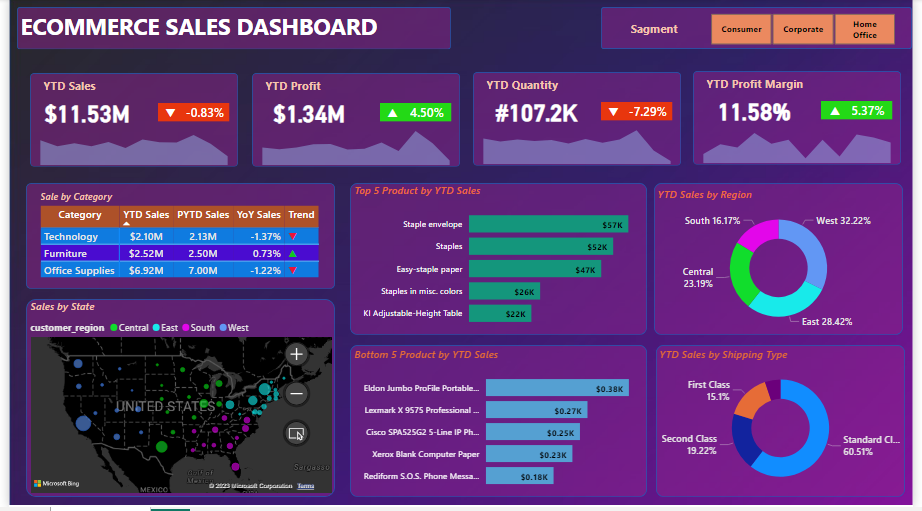

The dashboard page shown, as its layout file describes it:
{"tool":"powerbi","page":{"name":"Dashboard","canvas":[1280,720],"ordinal":0},"visuals":[{"type":"shape","box":[11.3,11.3,615,60],"z":0},{"type":"textbox","box":[11.3,11.3,535.7,62.4],"z":1000},{"type":"shape","box":[29.8,104.9,295,133],"z":2000},{"type":"card","fields":{"Values":["ecommerce_data.YTD Sales"]},"box":[43.9,137.5,133.2,45.4],"z":3000},{"type":"areaChart","fields":{"Category":["Calendar.Month"],"Y":["Sum(ecommerce_data.sales_per_order)"]},"box":[29.8,171.5,294.8,69.4],"z":4000},{"type":"shape","box":[211.2,147.4,100.6,25.5],"z":5000},{"type":"card","fields":{"Values":["ecommerce_data.YoY Sales"]},"box":[243.8,147.4,68,31.2],"z":6000},{"type":"card","fields":{"Values":["ecommerce_data.Sales Icon"]},"box":[211.2,147.4,35.4,25.5],"z":7000},{"type":"textbox","box":[43.9,106.3,99.2,31.2],"z":8000},{"type":"shape","box":[344.5,105,295,133],"z":9000},{"type":"card","fields":{"Values":["ecommerce_data.YTD Profit"]},"box":[358.7,137.6,133.2,45.4],"z":10000},{"type":"areaChart","fields":{"Category":["Calendar.Month"],"Y":["Sum(ecommerce_data.profit_per_order)"]},"box":[344.5,171.6,294.8,69.4],"z":11000},{"type":"shape","box":[525.9,147.5,100.6,25.5],"z":12000},{"type":"card","fields":{"Values":["ecommerce_data.YoY Profit"]},"box":[558.5,147.5,68,31.2],"z":13000},{"type":"card","fields":{"Values":["ecommerce_data.Profit Icon"]},"box":[525.8,147.4,35.4,25.5],"z":14000},{"type":"textbox","box":[358.6,106.3,100.6,31.2],"z":15000},{"type":"shape","box":[657.8,103.6,295,133],"z":16000},{"type":"card","fields":{"Values":["ecommerce_data.YTD Concanated Quantity"]},"box":[671.8,136.1,151.7,45.4],"z":17000},{"type":"areaChart","fields":{"Category":["Calendar.Month"],"Y":["Sum(ecommerce_data.order_quantity)"]},"box":[657.8,170.2,294.8,69.4],"z":18000},{"type":"shape","box":[839.2,146.1,100.6,25.5],"z":19000},{"type":"card","fields":{"Values":["ecommerce_data.YoY Qty"]},"box":[871.8,146.1,68,31.2],"z":20000},{"type":"card","fields":{"Values":["ecommerce_data.Qty Icon"]},"box":[839.1,146,35.4,25.5],"z":21000},{"type":"textbox","box":[671.8,104.9,133.2,31.2],"z":22000},{"type":"shape","box":[969.7,102.3,295,133],"z":23000},{"type":"card","fields":{"Values":["ecommerce_data.YTD Profit Margin"]},"box":[983.7,134.7,144.6,45.4],"z":24000},{"type":"areaChart","fields":{"Category":["Calendar.Month"],"Y":["ecommerce_data.Profit Margin"]},"box":[969.7,168.9,294.8,69.4],"z":25000},{"type":"shape","box":[1151.1,144.8,100.6,25.5],"z":26000},{"type":"card","fields":{"Values":["ecommerce_data.YoY Profit Marging"]},"box":[1183.7,144.8,68,31.2],"z":27000},{"type":"textbox","box":[983.6,103.5,167.2,31.2],"z":28000},{"type":"card","fields":{"Values":["ecommerce_data.Profit Margin Icon"]},"box":[1158,144.6,25.5,25.5],"z":29000},{"type":"shape","box":[24.1,260.8,438,150.2],"z":30000},{"type":"pivotTable","title":"Sale by Category","fields":{"Rows":["ecommerce_data.category_name"],"Values":["ecommerce_data.YTD Sales","ecommerce_data.PYTD Sales","ecommerce_data.YoY Sales","ecommerce_data.Sales Icon"]},"box":[39.7,270.7,409.6,140.3],"z":31000},{"type":"shape","box":[24.1,425.2,438,280.6],"z":32000},{"type":"map","title":"Sales by State","fields":{"Y":["us_state_long_lat_codes.latitude"],"X":["us_state_long_lat_codes.longitude"],"Size":["ecommerce_data.YTD Sales"],"Series":["ecommerce_data.customer_region"]},"box":[25.5,425.2,436.5,280.6],"z":33000},{"type":"shape","box":[483.3,260.8,420.9,215.4],"z":34000},{"type":"shape","box":[483.3,490.4,420.9,215.4],"z":35000},{"type":"barChart","title":"Top 5 Product by YTD Sales","fields":{"Category":["ecommerce_data.product_name"],"Y":["ecommerce_data.YTD Sales"]},"box":[484.7,260.8,409.6,215.4],"z":36000},{"type":"barChart","title":"Bottom 5 Product by YTD Sales","fields":{"Category":["ecommerce_data.product_name"],"Y":["ecommerce_data.YTD Sales"]},"box":[484.7,493.2,409.6,212.6],"z":37000},{"type":"shape","box":[914.2,260.8,352.9,215.4],"z":38000},{"type":"shape","box":[917,490.4,352.9,215.4],"z":39000},{"type":"donutChart","title":"YTD Sales by Region","fields":{"Category":["ecommerce_data.customer_region"],"Y":["ecommerce_data.YTD Sales"]},"box":[914.2,266.5,352.9,209.8],"z":40000},{"type":"donutChart","title":"YTD Sales by Shipping Type","fields":{"Y":["ecommerce_data.YTD Sales"],"Category":["ecommerce_data.shipping_type"]},"box":[917,493.2,352.9,209.8],"z":41000},{"type":"shape","box":[839.1,11.3,440.8,59.5],"z":42000},{"type":"slicer","fields":{"Values":["ecommerce_data.customer_segment"]},"box":[969.4,14.2,310.4,56.7],"z":43000},{"type":"textbox","box":[871.7,25.5,93.5,31.2],"z":44000}]}

Visuals, with their boxes in screenshot pixels (x1, y1, x2, y2), scaled from the page's 1280x720 canvas onto the 922x511 screenshot:
shape: [8,8,451,51]
textbox: [8,8,394,52]
shape: [21,74,234,169]
card - ecommerce_data.YTD Sales: [32,98,128,130]
areaChart - Calendar.Month x Sum(ecommerce_data.sales_per_order): [21,122,234,171]
shape: [152,105,225,123]
card - ecommerce_data.YoY Sales: [176,105,225,127]
card - ecommerce_data.Sales Icon: [152,105,178,123]
textbox: [32,75,103,98]
shape: [248,75,461,169]
card - ecommerce_data.YTD Profit: [258,98,354,130]
areaChart - Calendar.Month x Sum(ecommerce_data.profit_per_order): [248,122,460,171]
shape: [379,105,451,123]
card - ecommerce_data.YoY Profit: [402,105,451,127]
card - ecommerce_data.Profit Icon: [379,105,404,123]
textbox: [258,75,331,98]
shape: [474,74,686,168]
card - ecommerce_data.YTD Concanated Quantity: [484,97,593,129]
areaChart - Calendar.Month x Sum(ecommerce_data.order_quantity): [474,121,686,170]
shape: [604,104,677,122]
card - ecommerce_data.YoY Qty: [628,104,677,126]
card - ecommerce_data.Qty Icon: [604,104,630,122]
textbox: [484,74,580,97]
shape: [698,73,911,167]
card - ecommerce_data.YTD Profit Margin: [709,96,813,128]
areaChart - Calendar.Month x ecommerce_data.Profit Margin: [698,120,911,169]
shape: [829,103,902,121]
card - ecommerce_data.YoY Profit Marging: [853,103,902,125]
textbox: [708,73,829,96]
card - ecommerce_data.Profit Margin Icon: [834,103,852,121]
shape: [17,185,333,292]
"Sale by Category" pivotTable: [29,192,324,292]
shape: [17,302,333,501]
"Sales by State" map: [18,302,333,501]
shape: [348,185,651,338]
shape: [348,348,651,501]
"Top 5 Product by YTD Sales" barChart: [349,185,644,338]
"Bottom 5 Product by YTD Sales" barChart: [349,350,644,501]
shape: [659,185,913,338]
shape: [661,348,915,501]
"YTD Sales by Region" donutChart: [659,189,913,338]
"YTD Sales by Shipping Type" donutChart: [661,350,915,499]
shape: [604,8,921,50]
slicer - ecommerce_data.customer_segment: [698,10,921,50]
textbox: [628,18,695,40]
